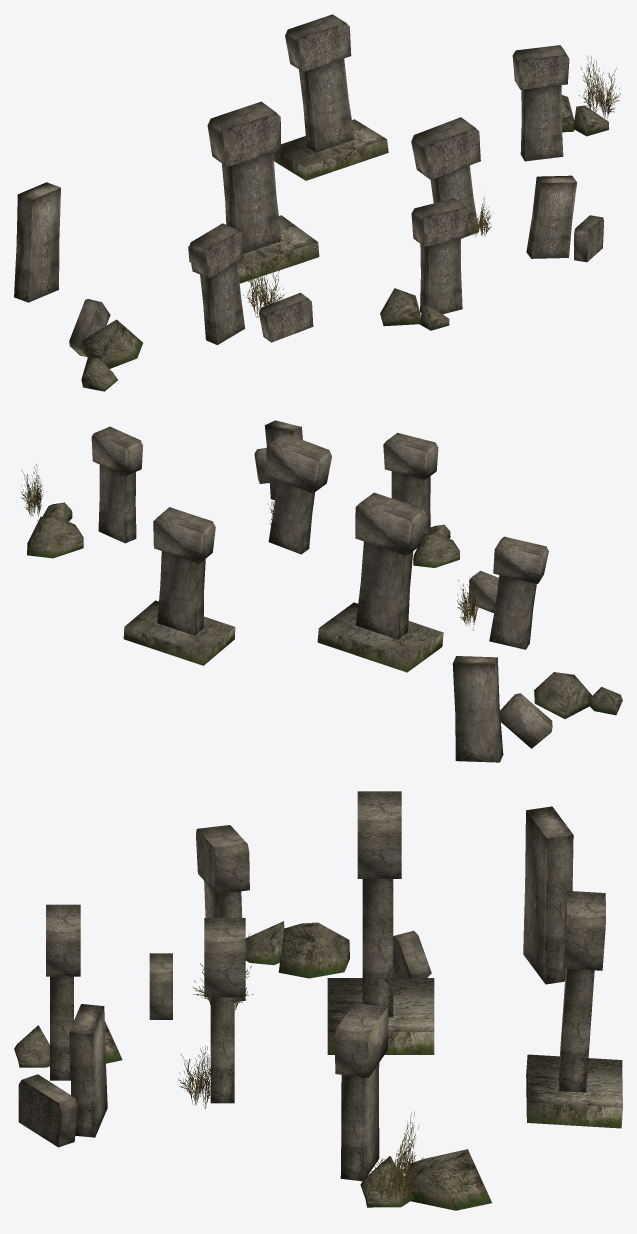
File: cj_grave_tombstone08_01.glb
3 renders of one model, top to bottom at view 1: azimuth 30°, elevation 25°; view 2: azimuth 150°, elevation 25°; view 3: azimuth 270°, elevation 25°, orthographic. The views are drawn at different scales.
Visible parts, largest first — view 1: cj_grave_tombstone08_01, cj_grave_tombstone08_02, cj_grave_tombstone08_03, cj_grave_tombstone08_05, cj_grave_tombstone08_04; view 2: cj_grave_tombstone08_01, cj_grave_tombstone08_03, cj_grave_tombstone08_05, cj_grave_tombstone08_04; view 3: cj_grave_tombstone08_01, cj_grave_tombstone08_05, cj_grave_tombstone08_03, cj_grave_tombstone08_02, cj_grave_tombstone08_04.
Part boxes in pixels (left/top/right/bottom): cj_grave_tombstone08_01: left=14, top=14, right=602, bottom=357; cj_grave_tombstone08_02: left=85, top=22, right=604, bottom=342; cj_grave_tombstone08_03: left=188, top=119, right=388, bottom=283; cj_grave_tombstone08_05: left=81, top=95, right=608, bottom=391; cj_grave_tombstone08_04: left=243, top=55, right=620, bottom=317; cj_grave_tombstone08_01: left=91, top=420, right=552, bottom=762; cj_grave_tombstone08_03: left=123, top=600, right=443, bottom=672; cj_grave_tombstone08_05: left=27, top=502, right=622, bottom=718; cj_grave_tombstone08_04: left=21, top=464, right=480, bottom=630; cj_grave_tombstone08_01: left=22, top=791, right=605, bottom=1181; cj_grave_tombstone08_05: left=14, top=921, right=491, bottom=1210; cj_grave_tombstone08_03: left=327, top=978, right=622, bottom=1128; cj_grave_tombstone08_02: left=18, top=829, right=566, bottom=1146; cj_grave_tombstone08_04: left=178, top=933, right=424, bottom=1205.
Size of the model in its own units: 13.29 by 4.66 by 8.25.
5 materials, 5 textured.
